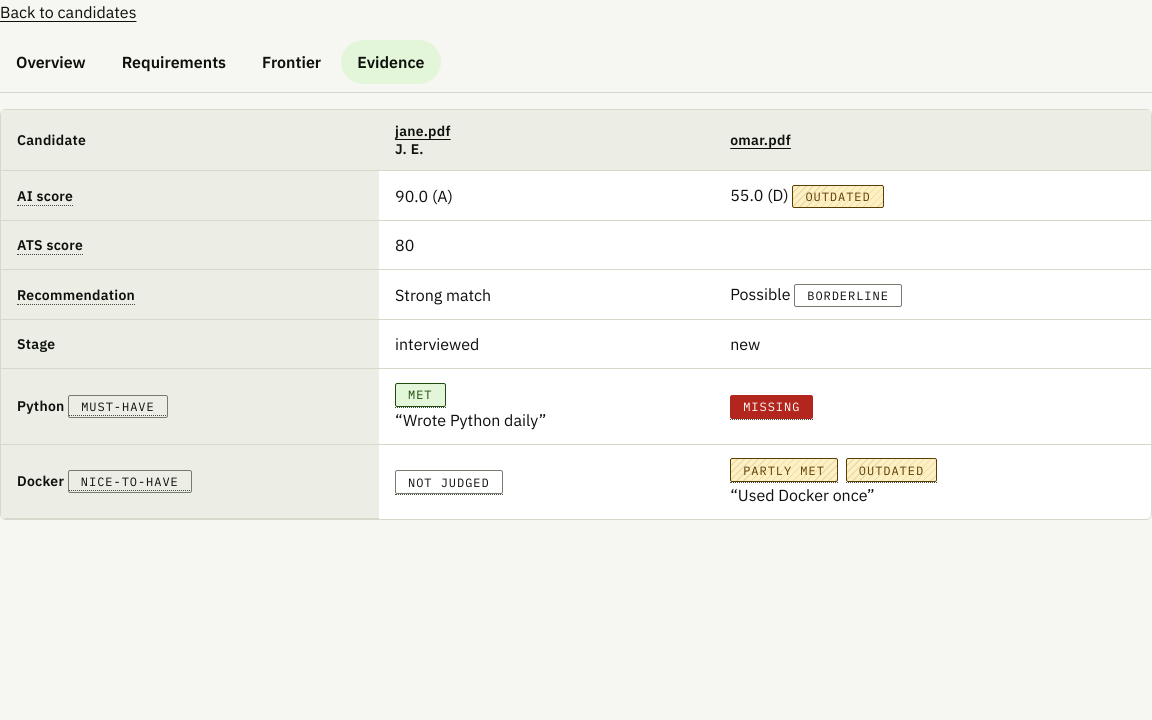
Test: side by side › opens the words behind a result from the table too
The width and height of the screenshot is (1152, 720).
Click the button with aria-label "omar.pdf: Docker".
click(834, 470)  # box x1=730 y1=457 x2=937 y2=483
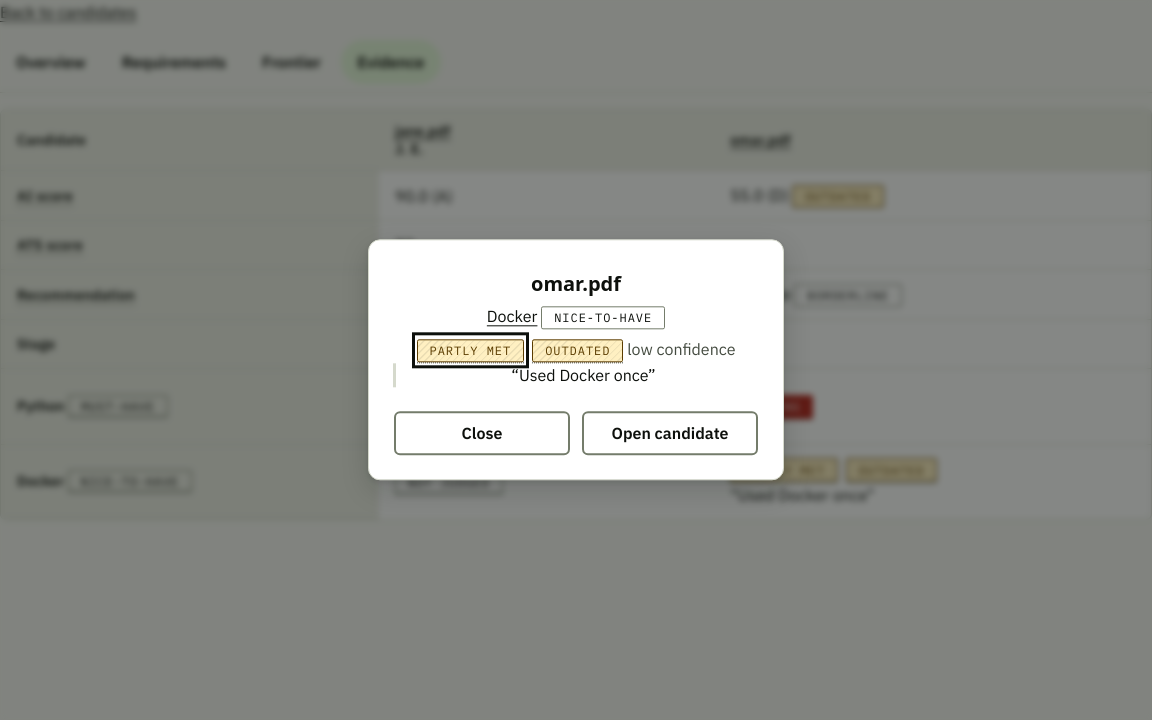
Expected: the text "“Used Docker once”" is shown, x1=393 y1=364 x2=759 y2=388
Expected: the text "low confidence" is shown, x1=623 y1=340 x2=736 y2=360
